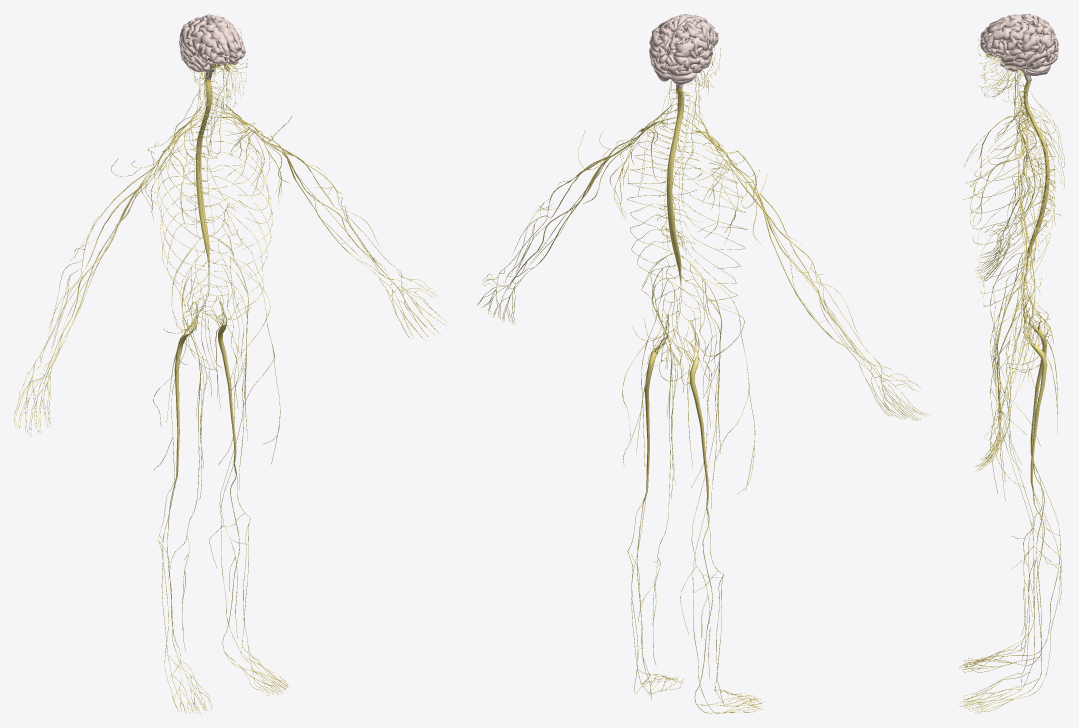
File: astronaut_nervous.glb
3 renders of one model, left to right at view 1: azimuth 30°, elevation 25°; view 2: azimuth 150°, elevation 25°; view 3: azimuth 270°, elevation 25°, orthographic. The views are drawn at different scales.
Parts seen in each view (by area): view 1: ORG_Brain_Cerebrum, SYS_Nerve_Intercostal_R, SYS_Nerve_Intercostal_L, SYS_Nerve_LumbosacralPlexus_L, SYS_Nerve_LumbosacralPlexus_R, SYS_SpinalCord, SYS_Nerve_BrachialPlexus_L, SYS_Nerve_Radial_R, SYS_Nerve_BrachialPlexus_R, SYS_Nerve_Femoral_L, SYS_Nerve_Femoral_R, SYS_Nerve_Tibial_L (+5 smaller); view 2: ORG_Brain_Cerebrum, SYS_Nerve_LumbosacralPlexus_R, SYS_Nerve_LumbosacralPlexus_L, SYS_SpinalCord, SYS_Nerve_Intercostal_L, SYS_Nerve_BrachialPlexus_R, SYS_Nerve_Intercostal_R, SYS_Nerve_Radial_R, SYS_Nerve_Femoral_R, SYS_Nerve_BrachialPlexus_L, SYS_Nerve_Femoral_L, SYS_Nerve_Tibial_R (+2 smaller); view 3: ORG_Brain_Cerebrum, SYS_Nerve_LumbosacralPlexus_L, SYS_Nerve_Intercostal_L, SYS_Nerve_BrachialPlexus_L, SYS_Nerve_LumbosacralPlexus_R, SYS_Nerve_Radial_L, SYS_Nerve_Tibial_L, SYS_SpinalCord, SYS_Nerve_Intercostal_R, SYS_Nerve_Tibial_R, SYS_Nerve_Femoral_L, SYS_Nerve_Femoral_R (+19 smaller).
Part boxes in pixels (x1=…): ORG_Brain_Cerebrum: x1=179, y1=14, x2=245, y2=72; SYS_Nerve_Intercostal_R: x1=157, y1=121, x2=230, y2=315; SYS_Nerve_Intercostal_L: x1=205, y1=117, x2=272, y2=312; SYS_Nerve_LumbosacralPlexus_L: x1=201, y1=236, x2=280, y2=464; SYS_Nerve_LumbosacralPlexus_R: x1=153, y1=149, x2=217, y2=487; SYS_SpinalCord: x1=196, y1=79, x2=212, y2=267; SYS_Nerve_BrachialPlexus_L: x1=210, y1=94, x2=281, y2=208; SYS_Nerve_Radial_R: x1=14, y1=154, x2=162, y2=435; SYS_Nerve_BrachialPlexus_R: x1=141, y1=98, x2=225, y2=231; SYS_Nerve_Femoral_L: x1=209, y1=250, x2=248, y2=637; SYS_Nerve_Femoral_R: x1=168, y1=253, x2=211, y2=650; SYS_Nerve_Tibial_L: x1=220, y1=462, x2=288, y2=695; ORG_Brain_Cerebrum: x1=649, y1=14, x2=718, y2=77; SYS_Nerve_LumbosacralPlexus_R: x1=673, y1=158, x2=755, y2=494; SYS_Nerve_LumbosacralPlexus_L: x1=622, y1=254, x2=689, y2=466; SYS_SpinalCord: x1=666, y1=87, x2=683, y2=284; SYS_Nerve_Intercostal_L: x1=627, y1=126, x2=702, y2=296; SYS_Nerve_BrachialPlexus_R: x1=682, y1=101, x2=756, y2=244; SYS_Nerve_Intercostal_R: x1=675, y1=132, x2=746, y2=300; SYS_Nerve_Radial_R: x1=727, y1=164, x2=927, y2=420; SYS_Nerve_Femoral_R: x1=680, y1=268, x2=721, y2=678; SYS_Nerve_BrachialPlexus_L: x1=609, y1=98, x2=696, y2=219; SYS_Nerve_Femoral_L: x1=638, y1=266, x2=683, y2=665; SYS_Nerve_Tibial_R: x1=692, y1=505, x2=762, y2=713; ORG_Brain_Cerebrum: x1=980, y1=14, x2=1058, y2=71; SYS_Nerve_LumbosacralPlexus_L: x1=990, y1=244, x2=1057, y2=493; SYS_Nerve_Intercostal_L: x1=970, y1=125, x2=1055, y2=306; SYS_Nerve_BrachialPlexus_L: x1=962, y1=98, x2=1063, y2=234; SYS_Nerve_LumbosacralPlexus_R: x1=990, y1=120, x2=1057, y2=441; SYS_Nerve_Radial_L: x1=977, y1=166, x2=1041, y2=471; SYS_Nerve_Tibial_L: x1=959, y1=490, x2=1060, y2=713; SYS_SpinalCord: x1=1023, y1=81, x2=1049, y2=265; SYS_Nerve_Intercostal_R: x1=970, y1=114, x2=1055, y2=298; SYS_Nerve_Tibial_R: x1=959, y1=462, x2=1060, y2=672; SYS_Nerve_Femoral_L: x1=993, y1=257, x2=1061, y2=660; SYS_Nerve_Femoral_R: x1=993, y1=251, x2=1061, y2=635.
Size of the model in its own units: 1.18 by 1.73 by 0.2482.
